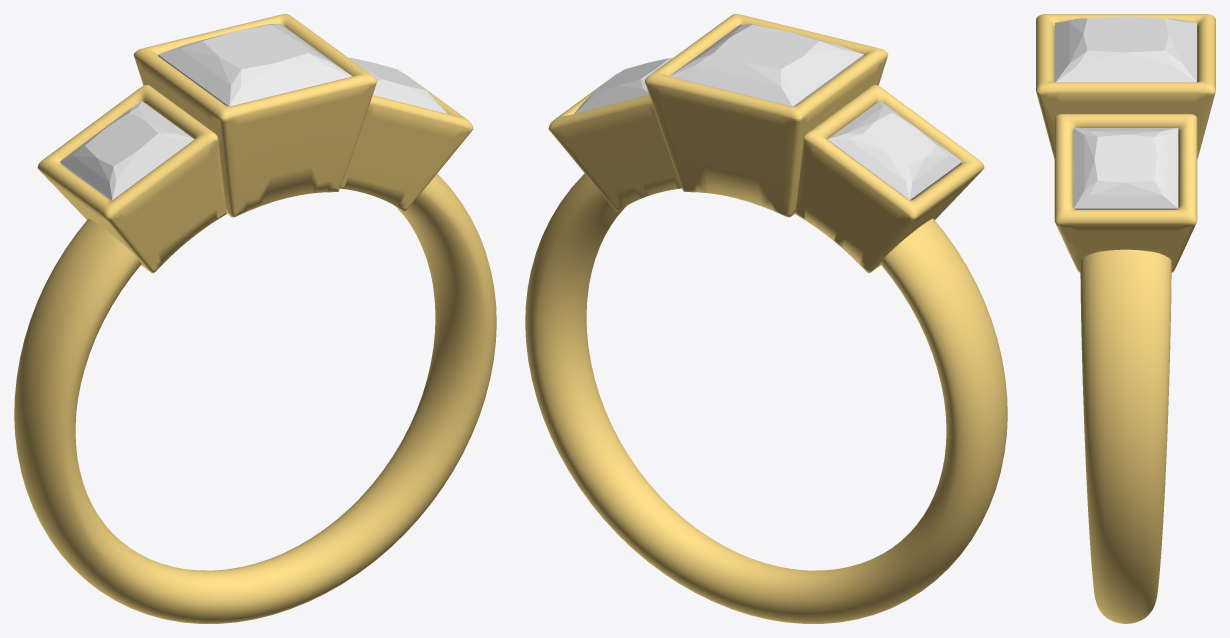
The model's file is diamond-princess-yellowgold-bezelset-taperedband-3stone.glb.
3 renders of one model, left to right at view 1: azimuth 30°, elevation 25°; view 2: azimuth 150°, elevation 25°; view 3: azimuth 270°, elevation 25°, orthographic.
Visible parts, largest first — view 1: metal, stone, side, side.001; view 2: metal, stone, side, side.001; view 3: metal, stone, side.001.
Boxes of the visible parts, x1=… form: metal: x1=14, y1=14, x2=496, y2=623; stone: x1=158, y1=24, x2=352, y2=106; side: x1=60, y1=101, x2=194, y2=200; side.001: x1=349, y1=58, x2=447, y2=113; metal: x1=525, y1=14, x2=1007, y2=623; stone: x1=669, y1=24, x2=863, y2=106; side: x1=827, y1=101, x2=961, y2=200; side.001: x1=574, y1=58, x2=672, y2=113; metal: x1=1036, y1=14, x2=1215, y2=623; stone: x1=1055, y1=16, x2=1196, y2=82; side.001: x1=1073, y1=128, x2=1178, y2=209.
Size of the model in its own units: 20.49 by 23.84 by 6.89.
